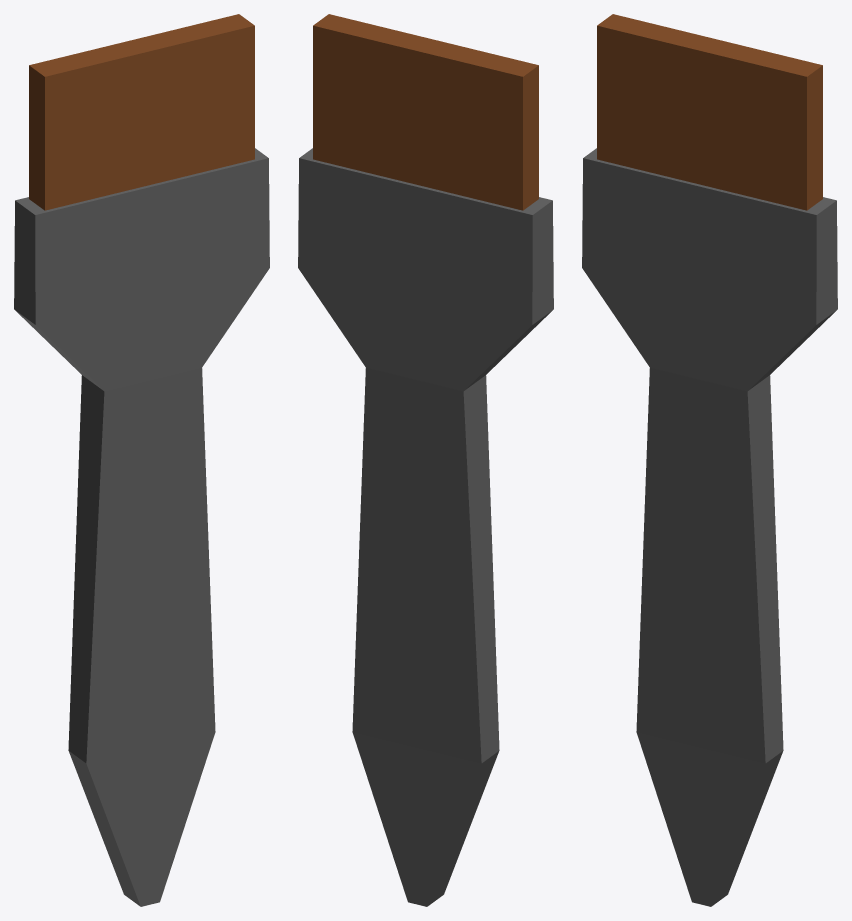
File: WashBrush1.glb
3 views of the same model, side by side, from view 1: azimuth 30°, elevation 25°; view 2: azimuth 150°, elevation 25°; view 3: azimuth 330°, elevation 25° (orthographic).
Parts seen in each view (by area): view 1: WashBrush1; view 2: WashBrush1; view 3: WashBrush1.
Part boxes in pixels (x1=…): WashBrush1: x1=14, y1=14, x2=269, y2=906; WashBrush1: x1=298, y1=14, x2=553, y2=906; WashBrush1: x1=582, y1=14, x2=837, y2=906.
Size of the model in its own units: 0.1021 by 0.355 by 0.017.
